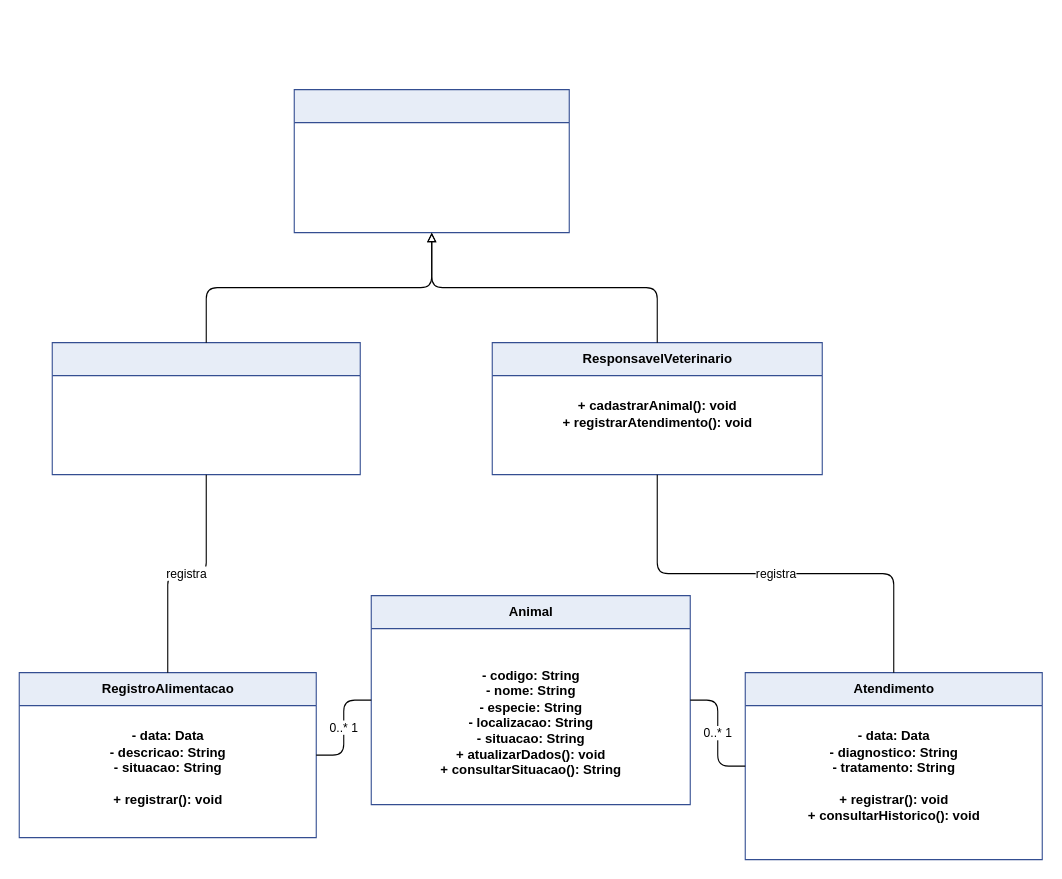
This 1062x879 diagram has some shape labels left out. The shapes that lost their labels are listed below. From the top down, each one's box as (x1, y1, x2, y2) in pixels, then its label:
(293, 89, 569, 233): Usuario - nome: String - identificacao: String + entrar(): boolean
(51, 342, 360, 475): Funcionario + registrarAlimentacao(): void + consultarLocalizacao(): Animal
